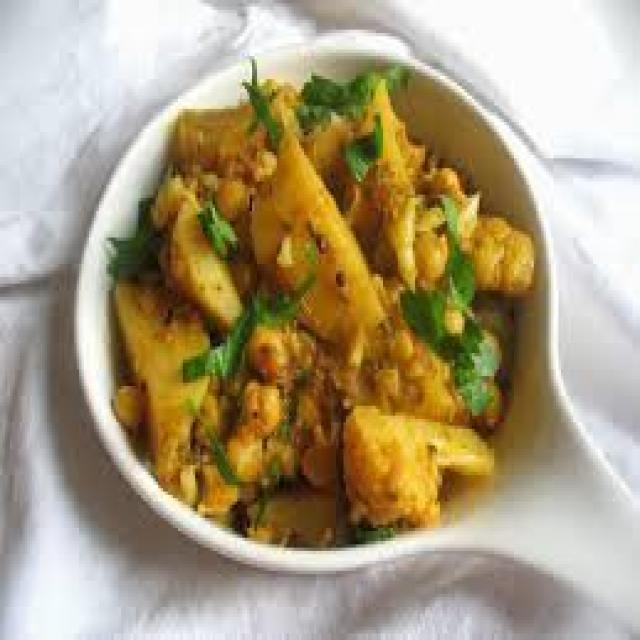aloo_gobi: (88, 59, 531, 543)
